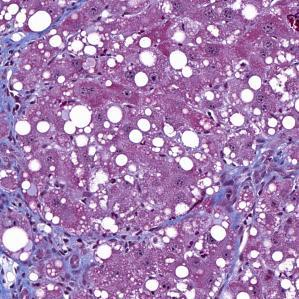fibrosis: (21, 206, 99, 286), (209, 143, 289, 219)
